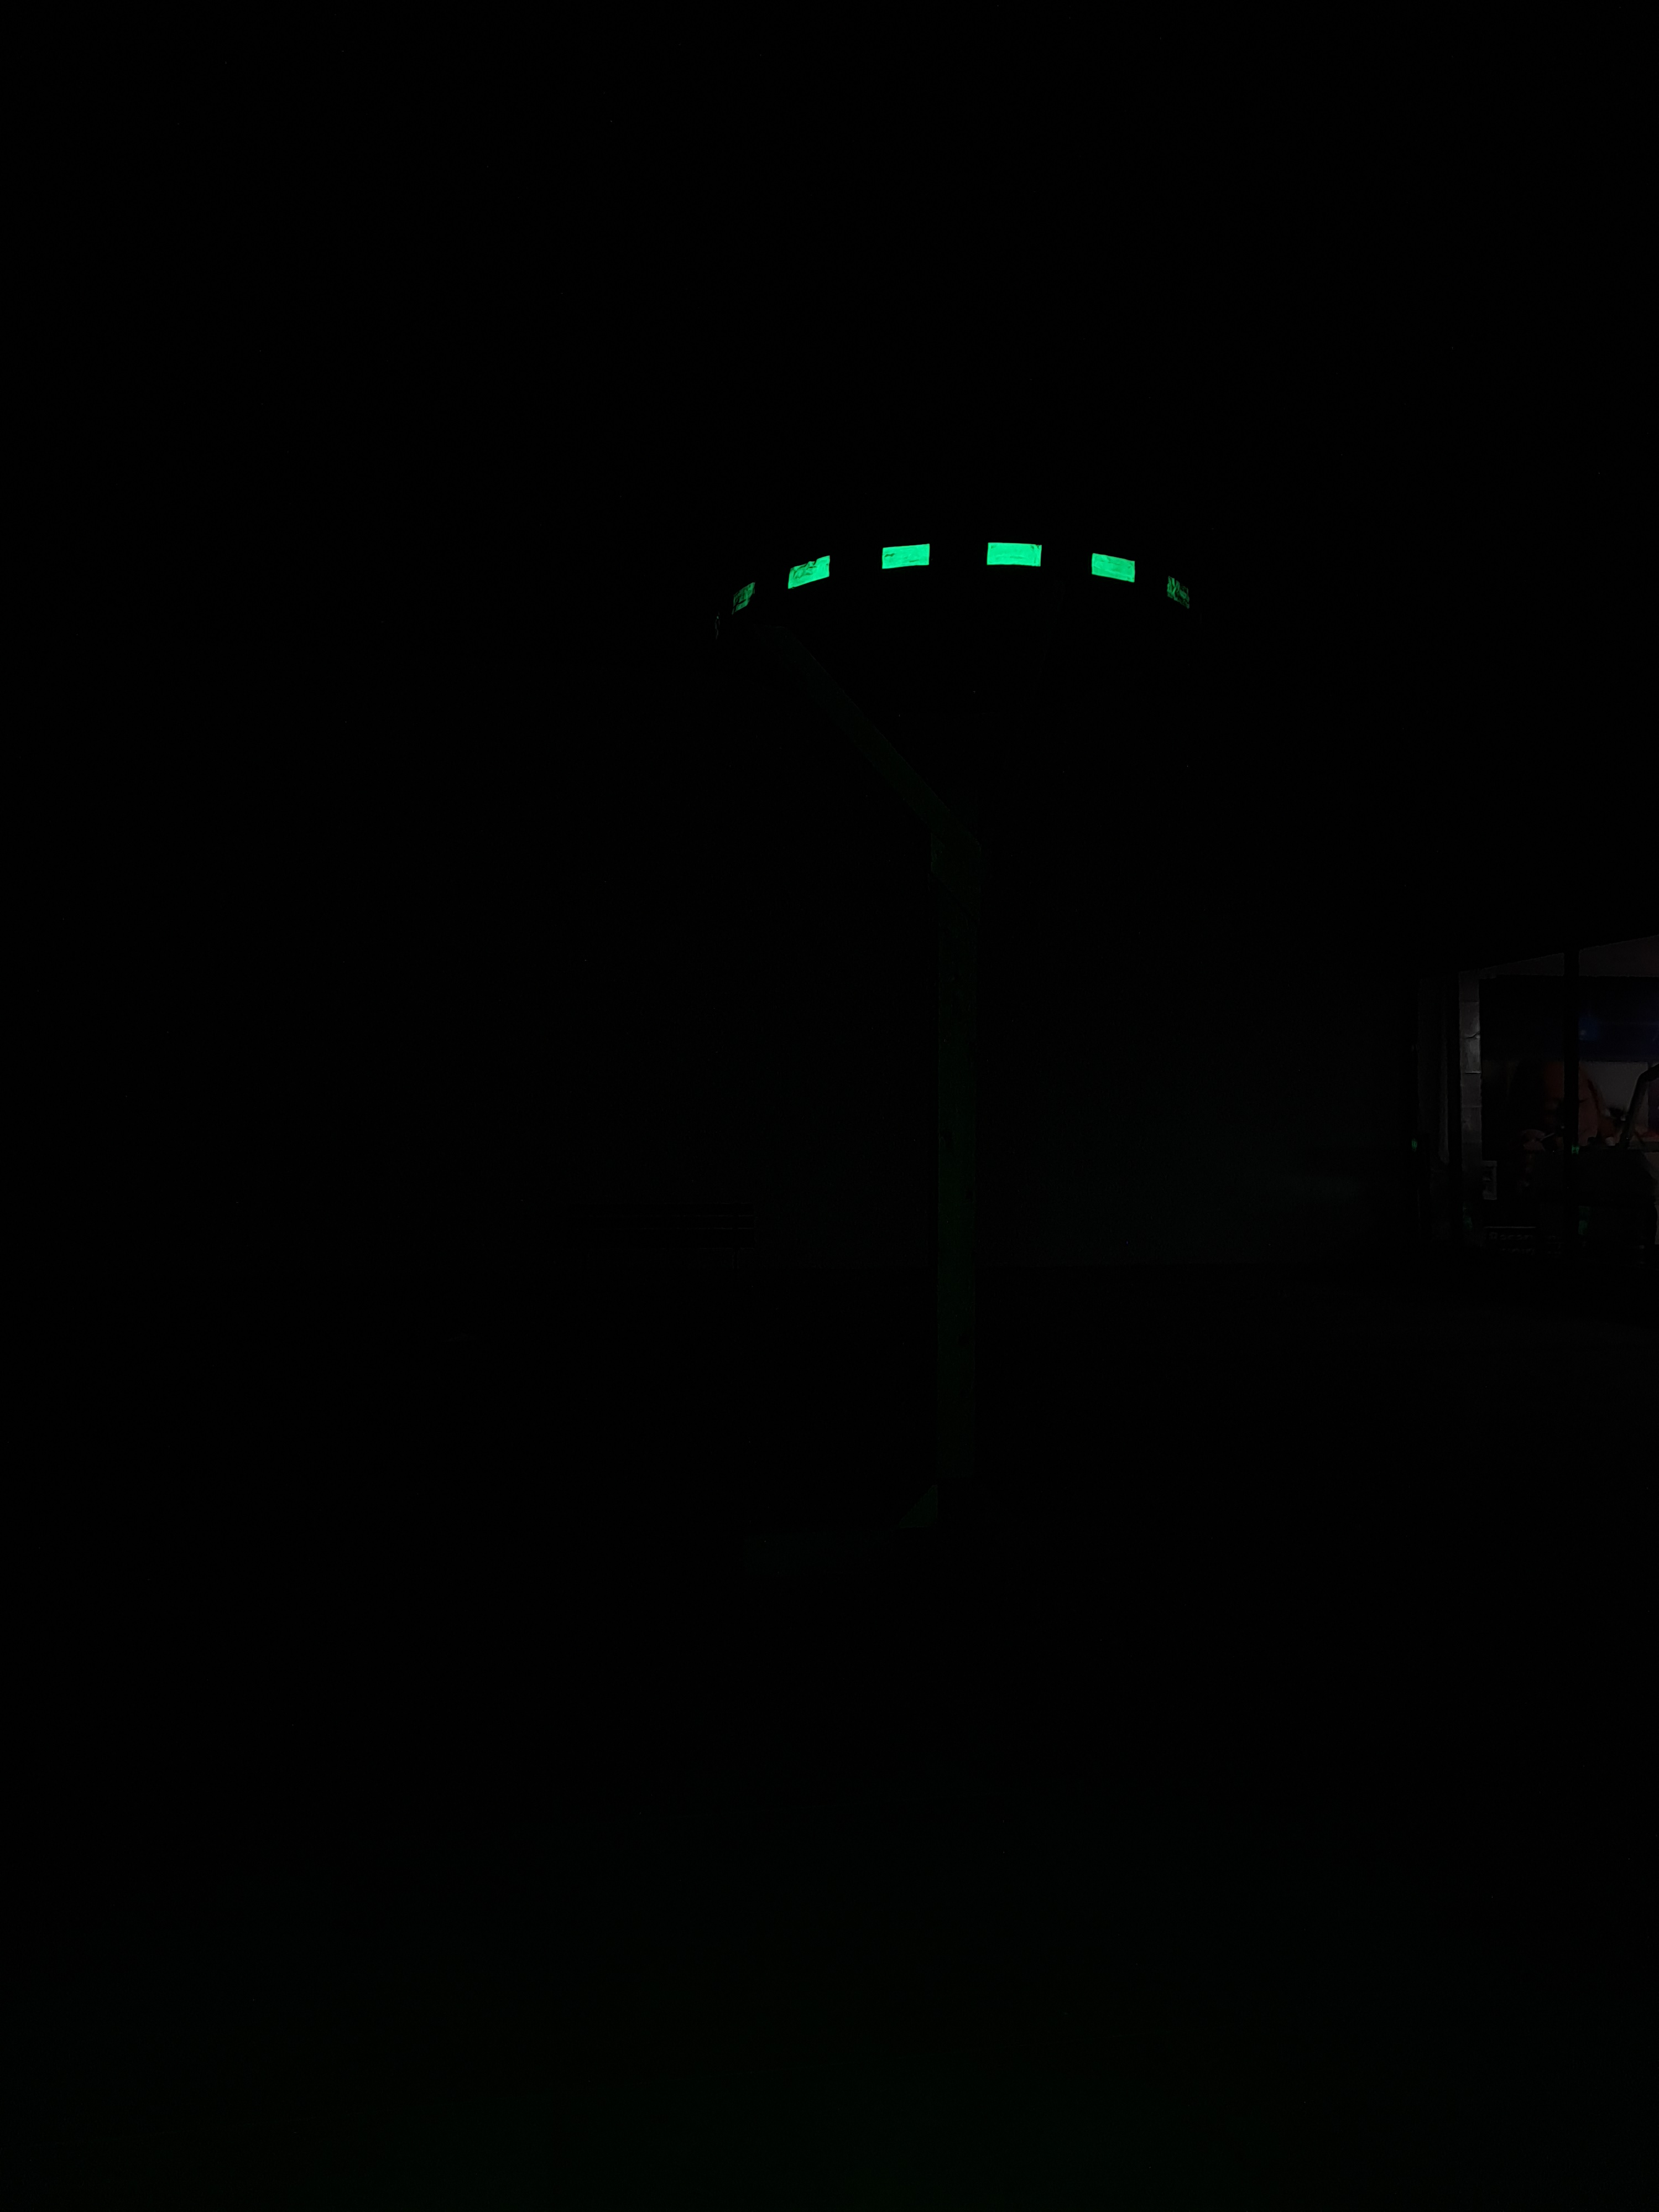hoop: (674, 523, 1216, 641)
